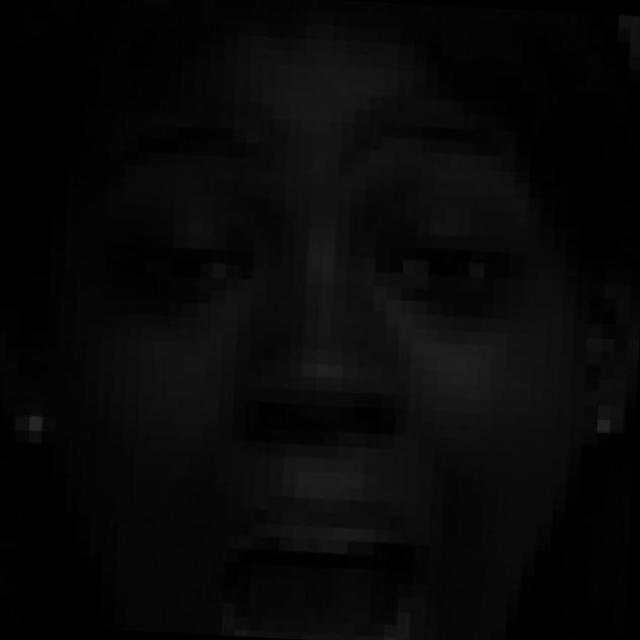surprised: (67, 74, 575, 640)
